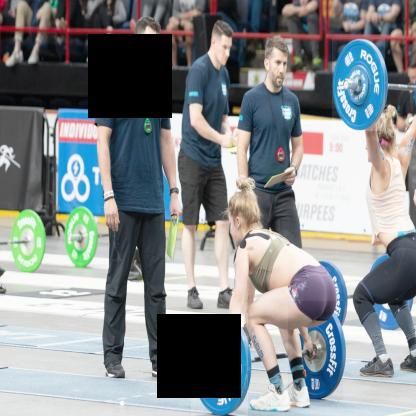barbell: (192, 314, 249, 416), (289, 302, 344, 401), (333, 39, 386, 132)
